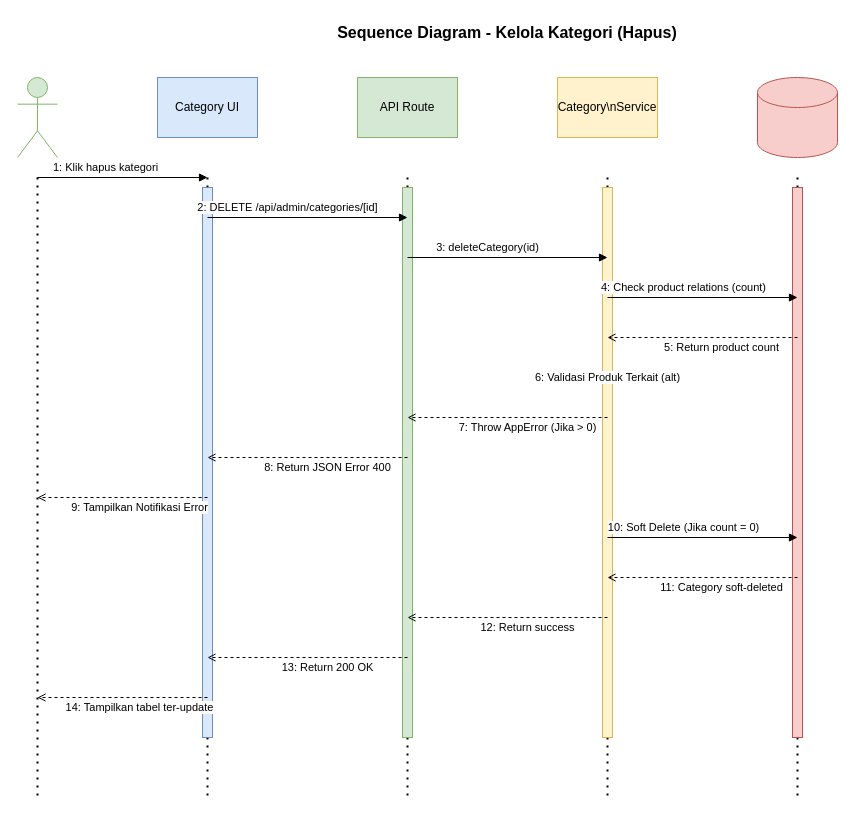
Some shapes in this 855 by 816 pixel diagram are drawn without their labels. Each missing label, with the box of its shape:
Admin: (16, 76, 58, 158)
Database: (756, 76, 838, 158)
